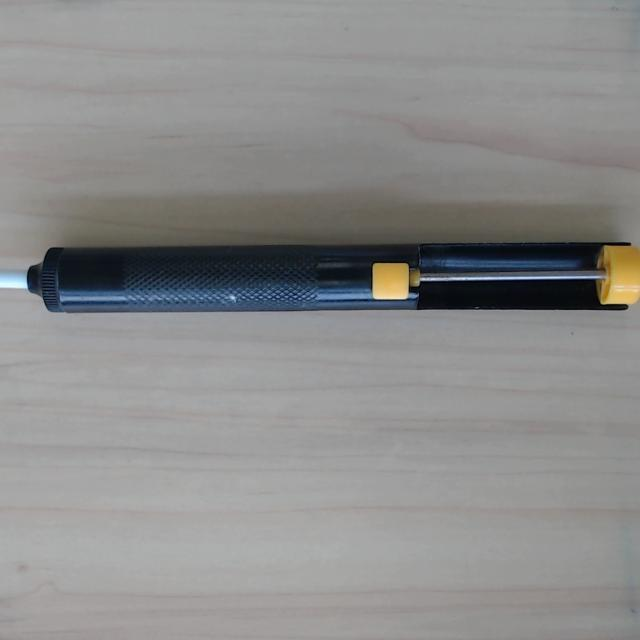Desoldering-Pump: (0, 241, 640, 312)
